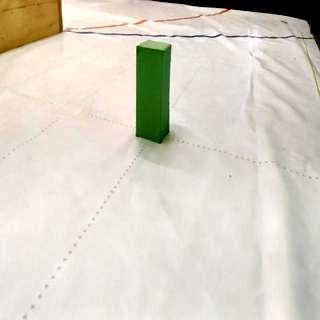greenbox: (134, 38, 172, 143)
